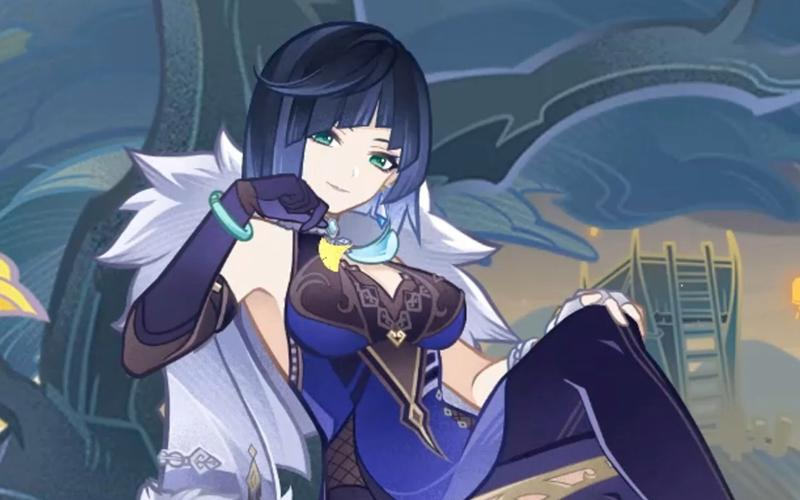夜兰: (120, 22, 739, 500)
